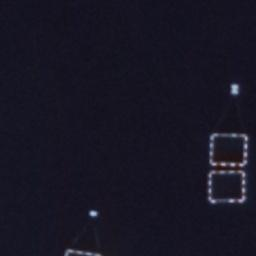square_solid: (205, 167, 249, 207), (205, 130, 250, 169)
